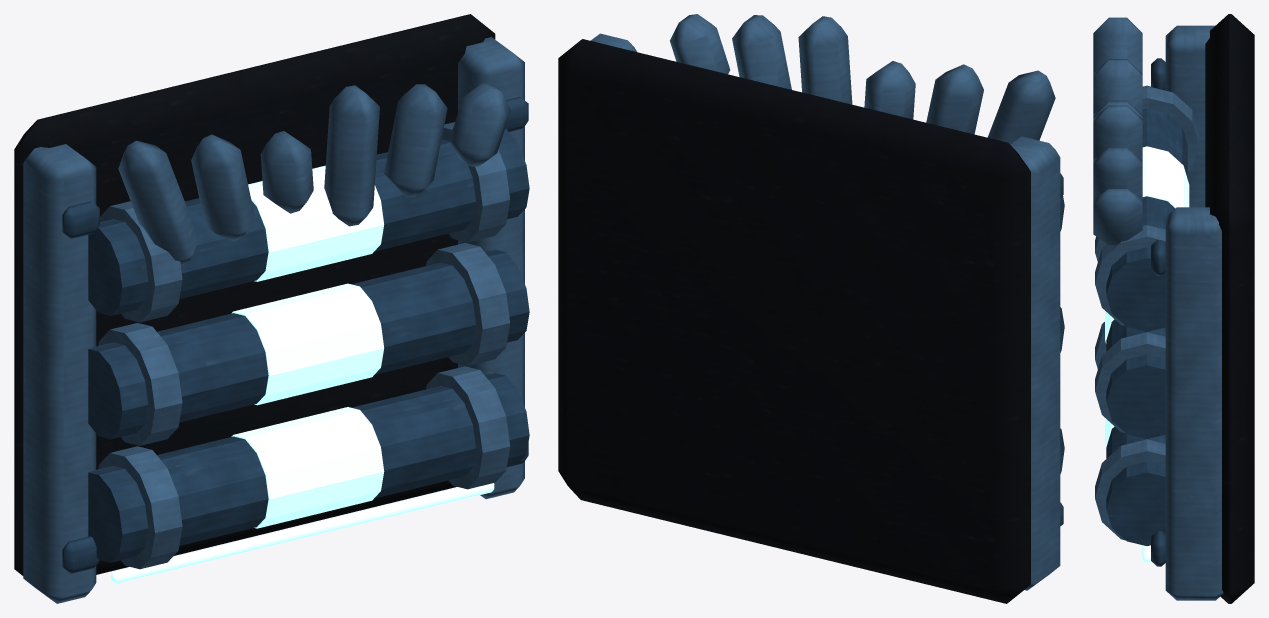
The model's file is frozen_reactor_fixture.glb.
3 views of the same model, side by side, from view 1: azimuth 30°, elevation 25°; view 2: azimuth 150°, elevation 25°; view 3: azimuth 270°, elevation 25° (orthographic). The views are drawn at different scales.
Parts seen in each view (by area): view 1: frozen_reactor_fixture - frozen_reactor trim, frozen_reactor_fixture - frozen_reactor panels, frozen_reactor_fixture - Recessed iron, frozen_reactor_fixture - frozen_reactor accents; view 2: frozen_reactor_fixture - Recessed iron, frozen_reactor_fixture - frozen_reactor trim; view 3: frozen_reactor_fixture - frozen_reactor trim, frozen_reactor_fixture - Recessed iron, frozen_reactor_fixture - frozen_reactor panels, frozen_reactor_fixture - frozen_reactor accents.
Part boxes in pixels (left/top/right/bottom): frozen_reactor_fixture - frozen_reactor trim: left=23, top=37, right=524, bottom=603; frozen_reactor_fixture - frozen_reactor panels: left=62, top=96, right=529, bottom=573; frozen_reactor_fixture - Recessed iron: left=14, top=14, right=495, bottom=575; frozen_reactor_fixture - frozen_reactor accents: left=111, top=165, right=494, bottom=583; frozen_reactor_fixture - Recessed iron: left=558, top=39, right=1030, bottom=603; frozen_reactor_fixture - frozen_reactor trim: left=590, top=14, right=1060, bottom=590; frozen_reactor_fixture - frozen_reactor trim: left=1093, top=17, right=1223, bottom=600; frozen_reactor_fixture - Recessed iron: left=1205, top=14, right=1254, bottom=603; frozen_reactor_fixture - frozen_reactor panels: left=1106, top=58, right=1187, bottom=566; frozen_reactor_fixture - frozen_reactor accents: left=1105, top=146, right=1189, bottom=562.
Bounding box in the file's own units: 3.13 × 3.02 × 1.05.
Materials: 4 (3 with a texture image).
